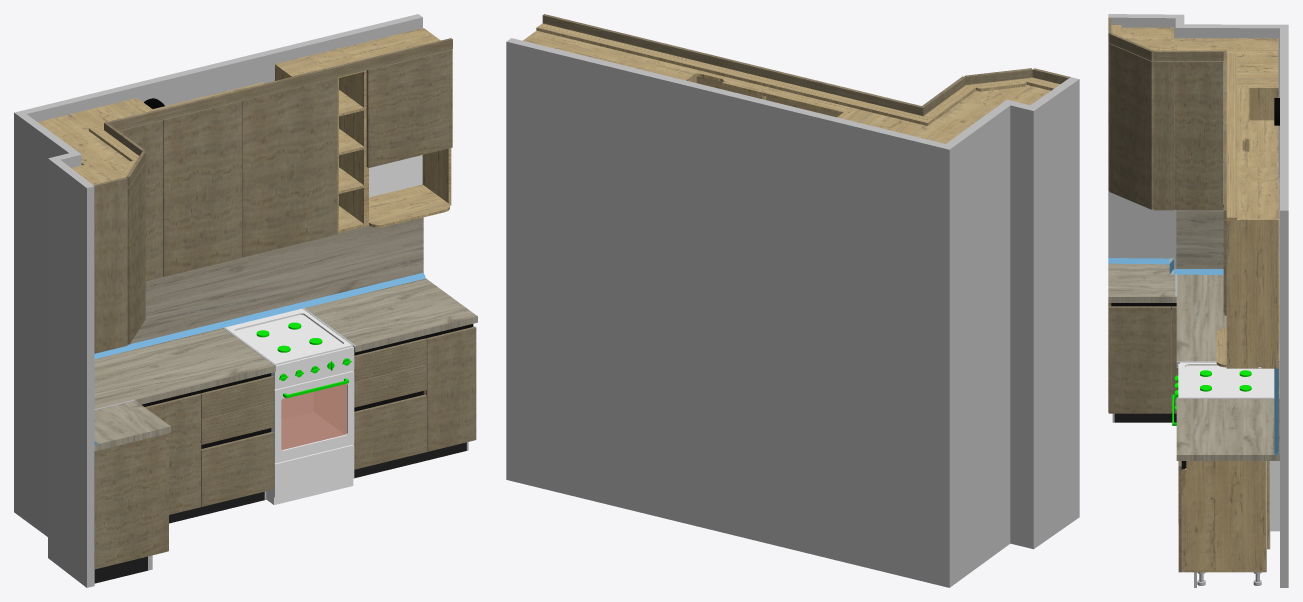
3 renders of one model, left to right at view 1: azimuth 30°, elevation 25°; view 2: azimuth 150°, elevation 25°; view 3: azimuth 270°, elevation 25°, orthographic. The views are drawn at different scales.
Visible parts, largest first — view 1: node_0520, node_0042, node_0132, node_0141, node_0043, node_0029, node_0151, node_0045, node_0118, node_0086, node_0099, node_0060 (+28 smaller); view 2: node_0520, node_0019, node_0020, node_0109, node_0146, node_0126, node_0117, node_0138; view 3: node_0520, node_0079, node_0145, node_0102, node_0030, node_0121, node_0045, node_0043, node_0120, node_0041, node_0109, node_0044 (+27 smaller).
Part boxes in pixels (x1,y1,x2,y2): node_0520: (14, 14, 422, 587); node_0042: (130, 217, 423, 343); node_0132: (242, 77, 337, 257); node_0141: (163, 100, 242, 276); node_0043: (94, 328, 275, 408); node_0029: (94, 434, 166, 569); node_0151: (366, 49, 452, 167); node_0045: (305, 278, 477, 352); node_0118: (93, 177, 127, 353); node_0086: (425, 326, 476, 451); node_0099: (201, 431, 274, 506); node_0060: (353, 394, 426, 469); node_0520: (506, 38, 1079, 587); node_0019: (542, 14, 921, 115); node_0020: (536, 23, 933, 125); node_0109: (842, 100, 994, 143); node_0146: (525, 31, 625, 62); node_0126: (651, 62, 763, 93); node_0117: (966, 85, 1050, 105); node_0138: (762, 87, 849, 114); node_0520: (1108, 14, 1288, 587); node_0079: (1181, 461, 1266, 569); node_0145: (1226, 219, 1278, 368); node_0102: (1174, 61, 1223, 209); node_0030: (1108, 306, 1171, 413); node_0121: (1109, 43, 1153, 209); node_0045: (1176, 398, 1279, 460); node_0043: (1176, 273, 1279, 361); node_0120: (1153, 61, 1173, 210); node_0041: (1176, 207, 1223, 268); node_0109: (1177, 38, 1278, 85); node_0044: (1108, 263, 1176, 302).
Bounding box in the file's own units: 2.69 × 2.41 × 1.05.
23 materials, 5 textured.
